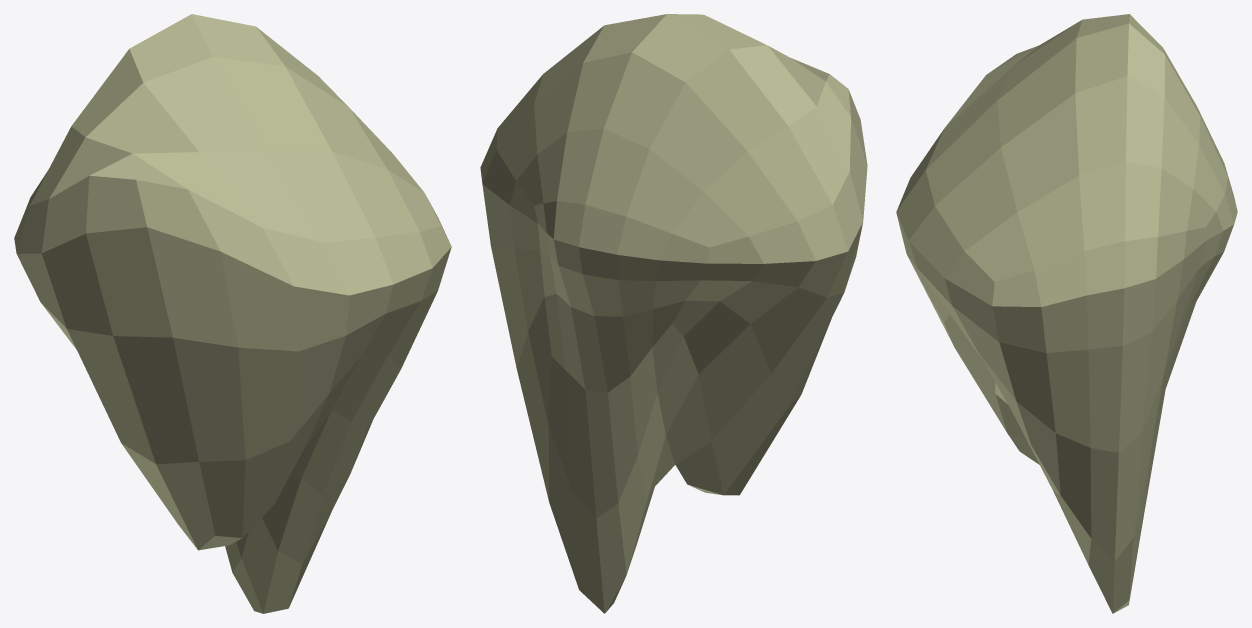
Rendered from Rock1.fbx.
3 renders of one model, left to right at view 1: azimuth 30°, elevation 25°; view 2: azimuth 150°, elevation 25°; view 3: azimuth 270°, elevation 25°, orthographic. The views are drawn at different scales.
Parts seen in each view (by area): view 1: Rock 1; view 2: Rock 1; view 3: Rock 1.
Part boxes in pixels (<box>): Rock 1: <box>14,14,451,613</box>; Rock 1: <box>480,14,867,613</box>; Rock 1: <box>896,14,1237,613</box>.
Bounding box in the file's own units: 319 × 497 × 278.
